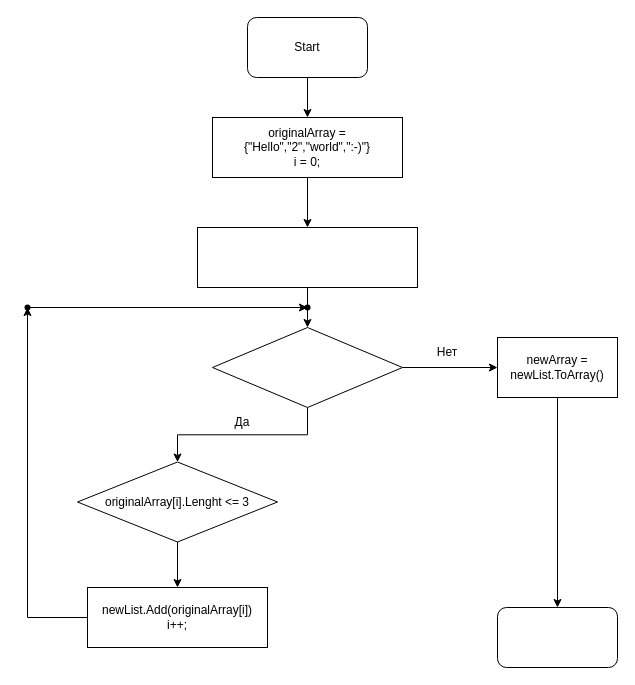
This 635x685 diagram has some shape labels left out. The shapes that lost their labels are listed below. From the top down, each one's centre as x and y in pixels, then its label:
the point at 307,257: string[] newArray List<string>newList;
the point at 307,367: i <= originalArray
the point at 557,637: End
